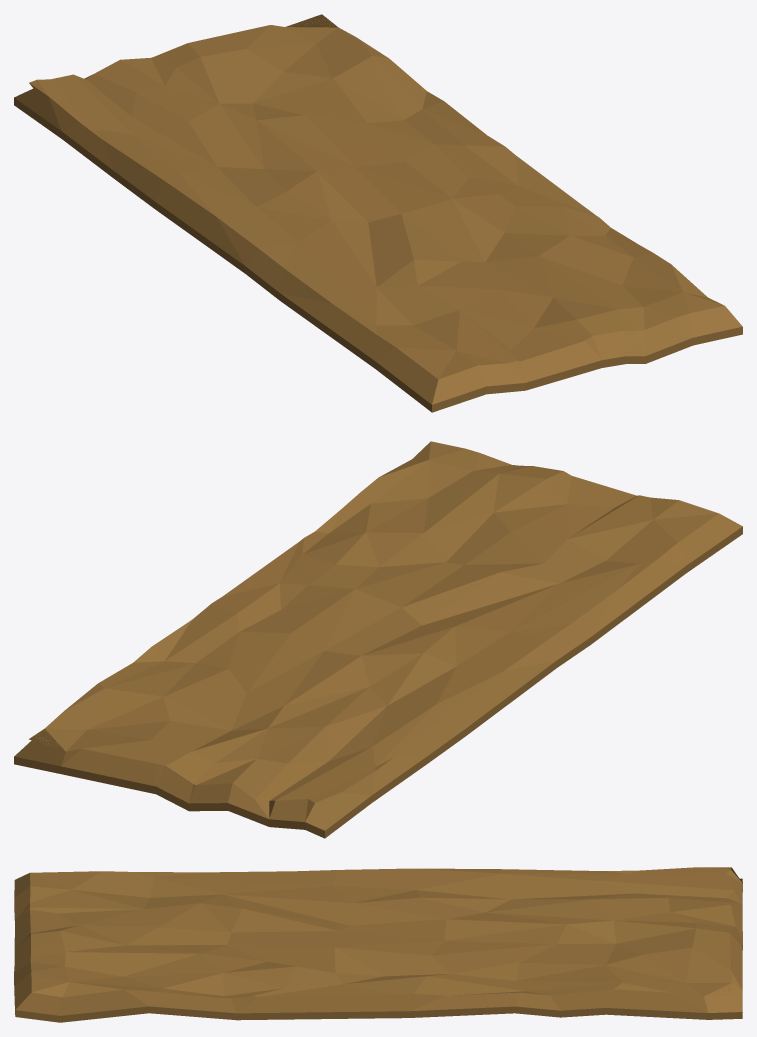
File: Field_1.fbx
The picture shows the model from 3 angles, top to bottom: view 1: azimuth 30°, elevation 25°; view 2: azimuth 150°, elevation 25°; view 3: azimuth 270°, elevation 25°; orthographic projection. The views are drawn at different scales.
Parts seen in each view (by area): view 1: Field_mesh; view 2: Field_mesh; view 3: Field_mesh.
Boxes of the visible parts, x1,y1,x2,y2 form: Field_mesh: (14,14,742,412); Field_mesh: (14,441,742,838); Field_mesh: (14,867,742,1022).
Size of the model in its own units: 571 by 69.72 by 1331.
